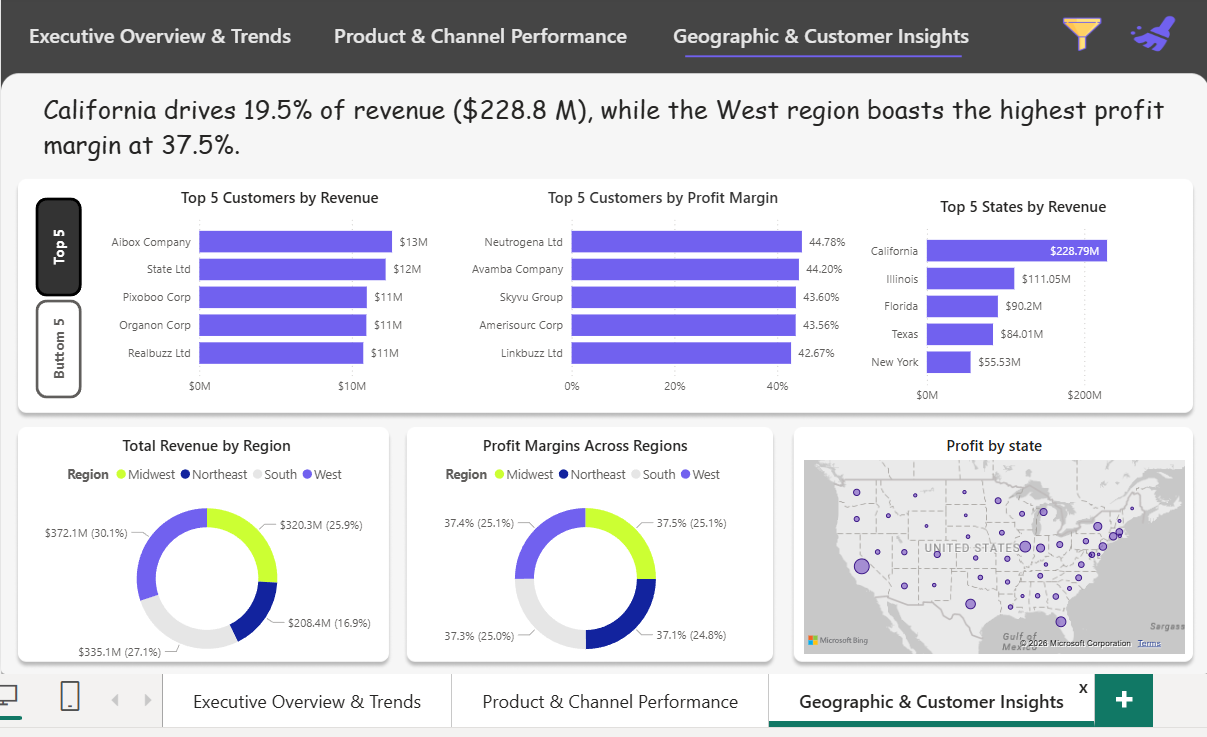

What the dashboard file says about the page in this screenshot:
{"tool":"powerbi","page":{"name":"Geographic & Customer Insights","canvas":[1280,720],"ordinal":2},"visuals":[{"type":"barChart","title":"Top 5 States by Revenue","fields":{"Category":["Sales_data.state_name"],"Y":["Measures_.Total Revenue"]},"box":[911.4,212.3,345.2,229],"z":0,"group":"g2"},{"type":"actionButton","box":[37,215,49,105],"z":0,"group":"g1"},{"type":"donutChart","title":"Total Revenue by Region","fields":{"Category":["Sales_data.us_region"],"Y":["Measures_.Total Revenue"]},"box":[20.3,466.1,394.9,254.2],"z":0},{"type":"barChart","title":"Top 5 Customers by Revenue","fields":{"Category":["Sales_data.customer_name"],"Y":["Measures_.Profit Margin %"]},"box":[486.5,203.4,430.5,228.8],"z":1000,"group":"g2"},{"type":"actionButton","box":[36.7,323.3,49,105],"z":1000,"group":"g1"},{"type":"donutChart","title":"Profit Margins Across Regions","fields":{"Category":["Sales_data.us_region"],"Y":["Measures_.Profit Margin %"]},"box":[415.3,466.1,408.5,254.2],"z":1000},{"type":"actionButton","box":[337.2,14.1,342.3,55.1],"z":2000},{"type":"barChart","title":"Top 5 Customers by Revenue","fields":{"Category":["Sales_data.customer_name"],"Y":["Measures_.Total Revenue"]},"box":[105.1,203.4,381.4,228.8],"z":2000,"group":"g2"},{"type":"actionButton","box":[9,14.1,317.9,55.1],"z":3000},{"type":"actionButton","box":[702.6,14.1,333.3,55.1],"z":4000},{"type":"group","id":"g1","title":"top 5 button","box":[36.7,215,48.3,213.3],"z":6000},{"type":"map","title":" Profit by state","fields":{"Category":["Sales_data.state"],"Size":["Measures_.Total Profit"]},"box":[846.9,465.7,413.8,237.7],"z":7000},{"type":"group","id":"g2","title":"top 5","box":[105.1,203.4,1151.5,238],"z":9000},{"type":"textbox","title":"Top Text","box":[40,96.2,1222.5,120],"z":11000},{"type":"actionButton","box":[1188,14,70,55],"z":12000},{"type":"actionButton","box":[1120,21,53,42],"z":13000}]}

Visuals, with their boxes on the page's 1280x720 design canvas (x1, y1, x2, y2). These are canvas units, not pixel positions in the 1207x737 screenshot, which may show the page scaled, cropped or inside an application window:
"Top 5 States by Revenue" barChart: (x1=911, y1=212, x2=1257, y2=441)
actionButton: (x1=37, y1=215, x2=86, y2=320)
"Total Revenue by Region" donutChart: (x1=20, y1=466, x2=415, y2=720)
"Top 5 Customers by Revenue" barChart: (x1=486, y1=203, x2=917, y2=432)
actionButton: (x1=37, y1=323, x2=86, y2=428)
"Profit Margins Across Regions" donutChart: (x1=415, y1=466, x2=824, y2=720)
actionButton: (x1=337, y1=14, x2=680, y2=69)
"Top 5 Customers by Revenue" barChart: (x1=105, y1=203, x2=486, y2=432)
actionButton: (x1=9, y1=14, x2=327, y2=69)
actionButton: (x1=703, y1=14, x2=1036, y2=69)
"top 5 button" group: (x1=37, y1=215, x2=85, y2=428)
" Profit by state" map: (x1=847, y1=466, x2=1261, y2=703)
"top 5" group: (x1=105, y1=203, x2=1257, y2=441)
"Top Text" textbox: (x1=40, y1=96, x2=1262, y2=216)
actionButton: (x1=1188, y1=14, x2=1258, y2=69)
actionButton: (x1=1120, y1=21, x2=1173, y2=63)
